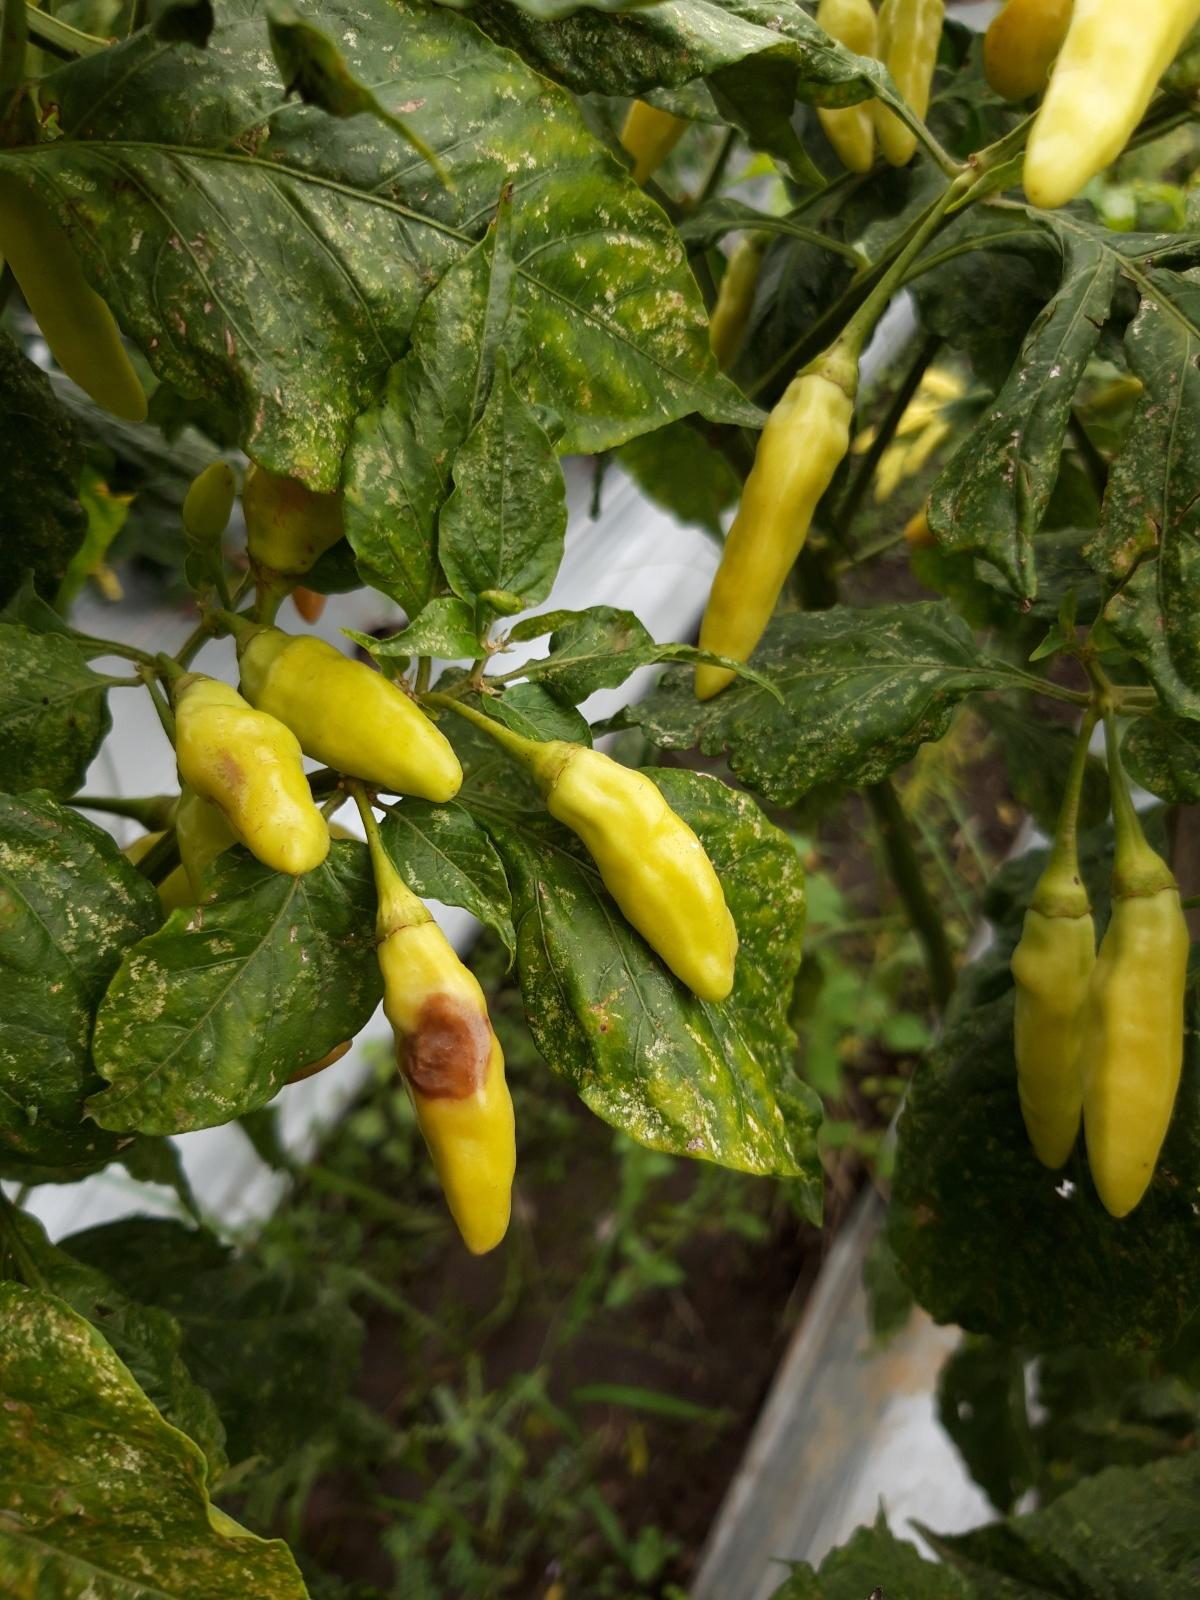cabai_normal: (693, 344, 858, 700), (529, 740, 736, 1002), (236, 624, 465, 804), (1083, 847, 1189, 1220), (1024, 1, 1200, 212), (166, 671, 330, 874), (1013, 866, 1099, 1170), (868, 3, 955, 165), (180, 461, 236, 554)
lalat_buah: (376, 882, 517, 1254)
